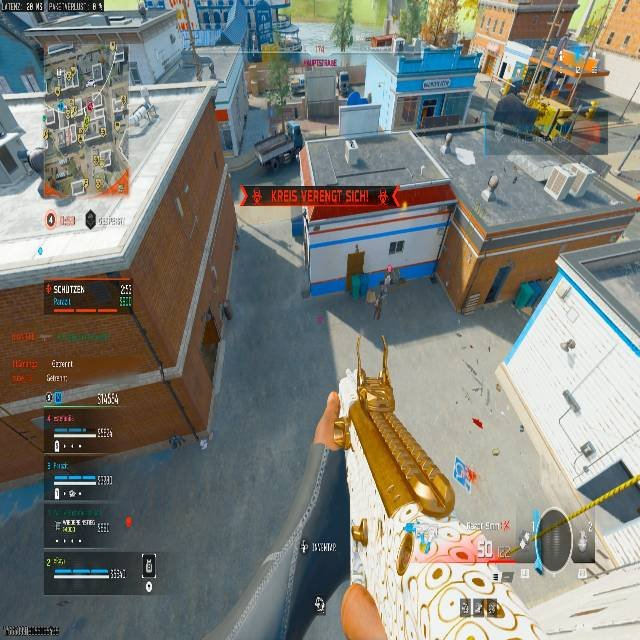player: (370, 286, 385, 317)
